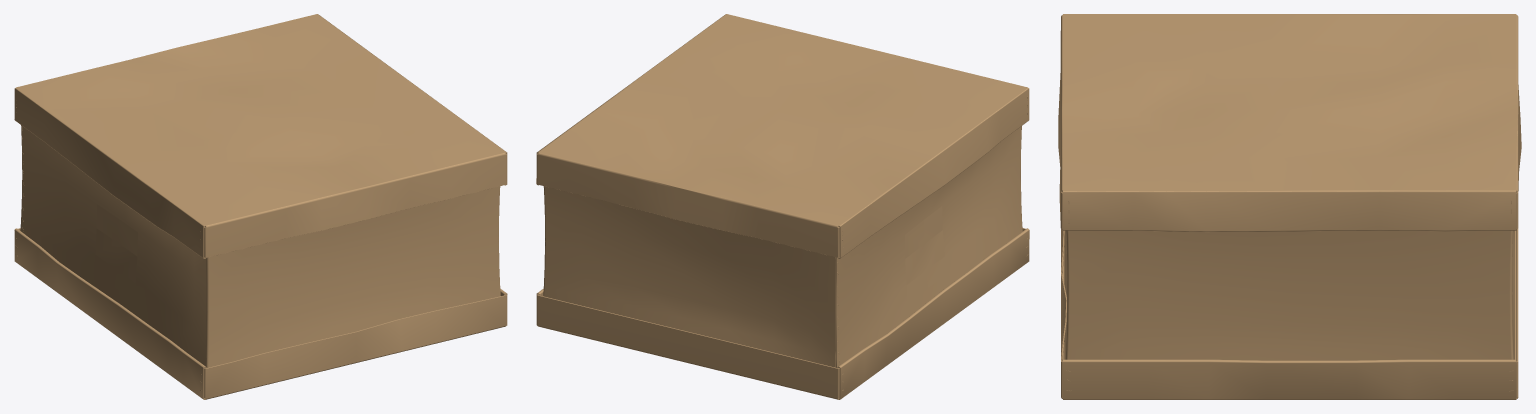
File: box_cardboard_large_b02.glb
3 renders of one model, left to right at view 1: azimuth 30°, elevation 25°; view 2: azimuth 150°, elevation 25°; view 3: azimuth 270°, elevation 25°, orthographic. The views are drawn at different scales.
Bounding box in the file's own units: 1 × 0.5397 × 1.08.
